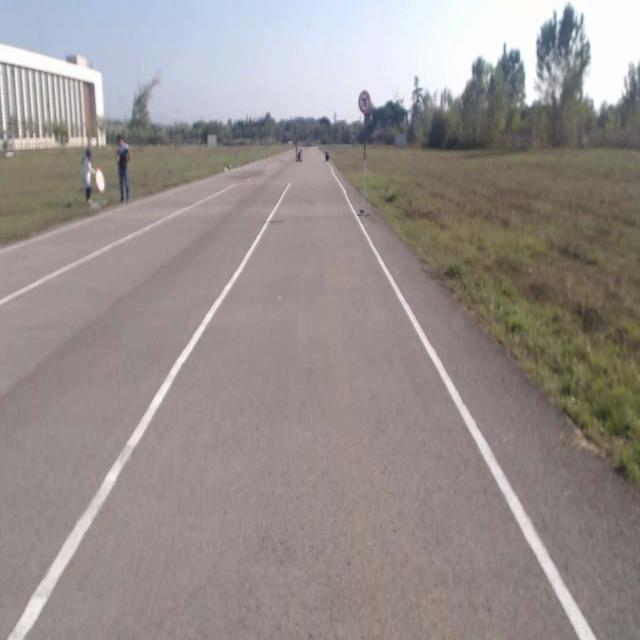soladonulmez: (359, 91, 371, 113)
